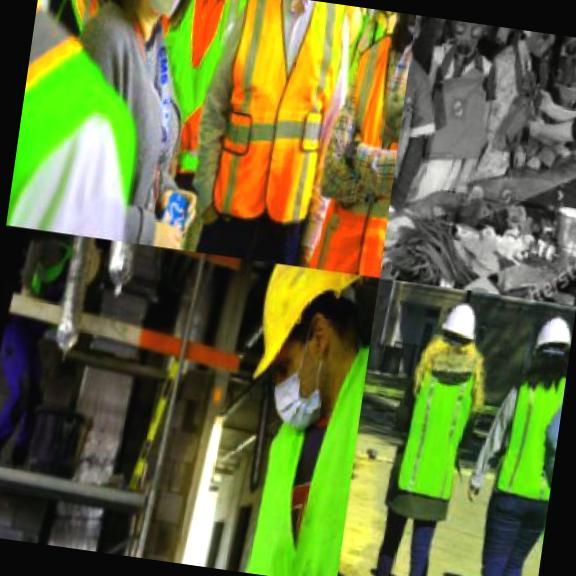safety_vest: (171, 0, 371, 259), (188, 308, 370, 576), (6, 0, 167, 241), (286, 17, 412, 276), (376, 342, 491, 517), (128, 0, 250, 158), (471, 362, 567, 521), (508, 350, 569, 576), (44, 0, 118, 50), (224, 0, 290, 17)
